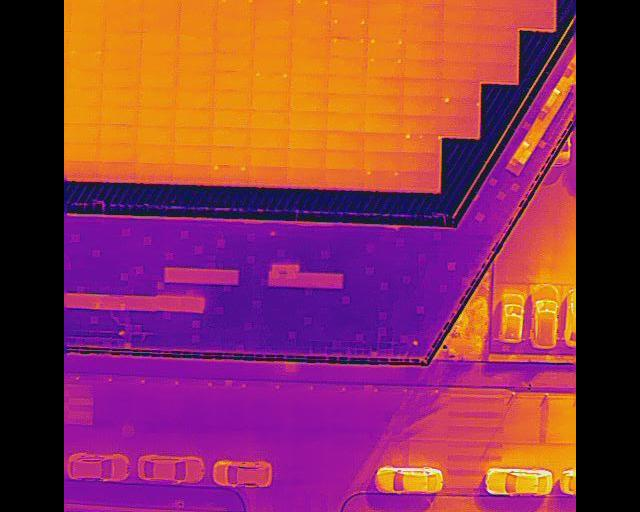Cell-Multi: (366, 56, 403, 77), (364, 169, 404, 188), (210, 164, 250, 183), (442, 96, 481, 115), (250, 72, 291, 90), (367, 38, 404, 57), (403, 133, 440, 152), (328, 37, 367, 55), (293, 0, 329, 18), (329, 18, 365, 36), (216, 0, 253, 15)
No-Anomaly: (250, 89, 290, 111), (289, 52, 328, 73), (327, 111, 365, 132), (403, 76, 442, 96), (64, 66, 103, 86), (136, 123, 175, 143), (327, 129, 364, 150), (325, 168, 365, 187), (328, 54, 366, 74), (365, 132, 403, 152), (365, 93, 403, 113), (404, 95, 442, 115), (100, 160, 138, 180), (103, 48, 141, 68), (212, 108, 252, 127), (214, 51, 252, 71), (215, 15, 253, 35), (140, 67, 178, 87), (141, 13, 179, 33), (289, 72, 328, 91), (365, 113, 404, 132), (212, 89, 251, 108), (64, 48, 103, 67), (250, 109, 289, 128), (251, 129, 290, 148), (290, 128, 327, 148), (366, 75, 403, 95), (404, 57, 441, 77), (442, 24, 479, 44), (480, 61, 517, 81), (174, 144, 211, 164), (178, 14, 215, 34), (253, 16, 290, 36), (104, 10, 141, 30), (289, 91, 327, 110), (291, 35, 329, 54), (327, 93, 365, 112), (328, 74, 366, 93), (403, 151, 441, 170), (103, 67, 141, 86), (64, 104, 102, 123), (250, 166, 288, 185), (251, 147, 289, 166), (252, 52, 290, 71), (104, 29, 142, 48), (138, 87, 176, 106), (141, 50, 179, 69), (403, 5, 443, 23), (404, 170, 440, 190), (211, 146, 251, 164), (69, 11, 105, 31), (140, 105, 176, 125), (173, 163, 210, 182), (176, 89, 213, 108), (177, 108, 214, 127), (137, 143, 174, 162), (289, 111, 328, 129), (403, 40, 442, 58), (101, 86, 140, 104), (213, 34, 252, 52), (481, 24, 516, 44), (289, 167, 325, 186), (289, 149, 325, 168), (290, 17, 328, 35), (326, 150, 364, 168), (404, 114, 440, 133), (441, 115, 477, 134), (441, 78, 479, 96), (479, 45, 517, 63), (99, 143, 137, 161), (176, 126, 212, 145), (177, 34, 215, 52), (213, 127, 251, 145), (64, 122, 100, 141), (252, 35, 290, 53), (137, 162, 173, 181), (364, 151, 401, 169), (443, 44, 480, 62), (480, 8, 517, 26), (516, 9, 553, 27), (102, 104, 139, 122), (177, 70, 214, 88), (213, 71, 250, 89), (64, 86, 101, 104), (101, 123, 136, 142), (142, 32, 177, 51), (403, 23, 442, 40), (178, 52, 214, 70), (64, 161, 100, 179), (441, 61, 479, 78), (64, 141, 98, 160), (329, 1, 366, 18), (366, 4, 403, 21), (366, 21, 402, 38), (69, 30, 105, 47), (254, 0, 292, 16), (443, 7, 480, 23), (181, 0, 217, 14), (142, 0, 179, 12), (70, 0, 104, 12), (105, 0, 142, 11), (517, 0, 553, 11), (479, 0, 515, 9), (443, 0, 479, 7), (403, 0, 442, 5), (367, 0, 402, 5)
